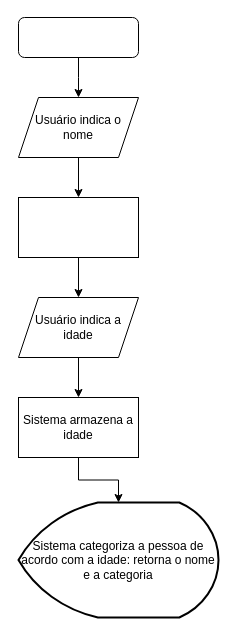
This 236x636 diagram has some shape labels left out. Each missing label, with the centre of its shape:
"Início" belongs at (78,37).
"Sistema armazena o nome" belongs at (78,227).
